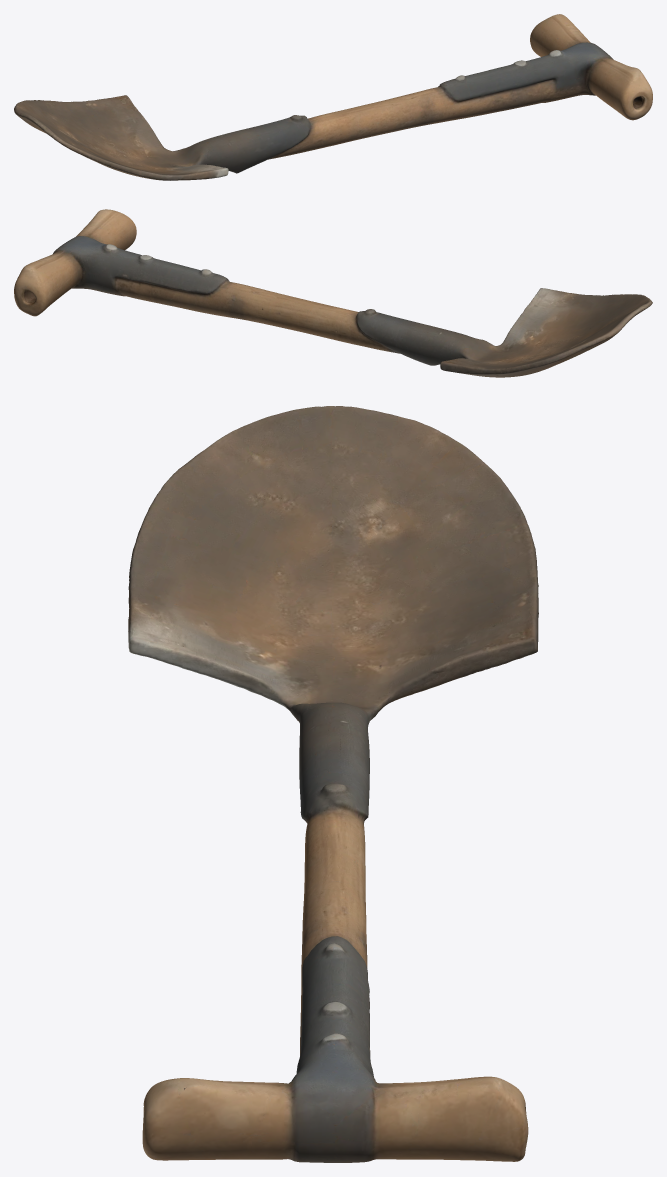
Rendered from T Handle Entren.glb.
3 renders of one model, top to bottom at view 1: azimuth 30°, elevation 25°; view 2: azimuth 150°, elevation 25°; view 3: azimuth 270°, elevation 25°, orthographic. The views are drawn at different scales.
Bounding box in the file's own units: 2 × 0.3551 × 0.6177.
Materials: 1 (1 with a texture image).
